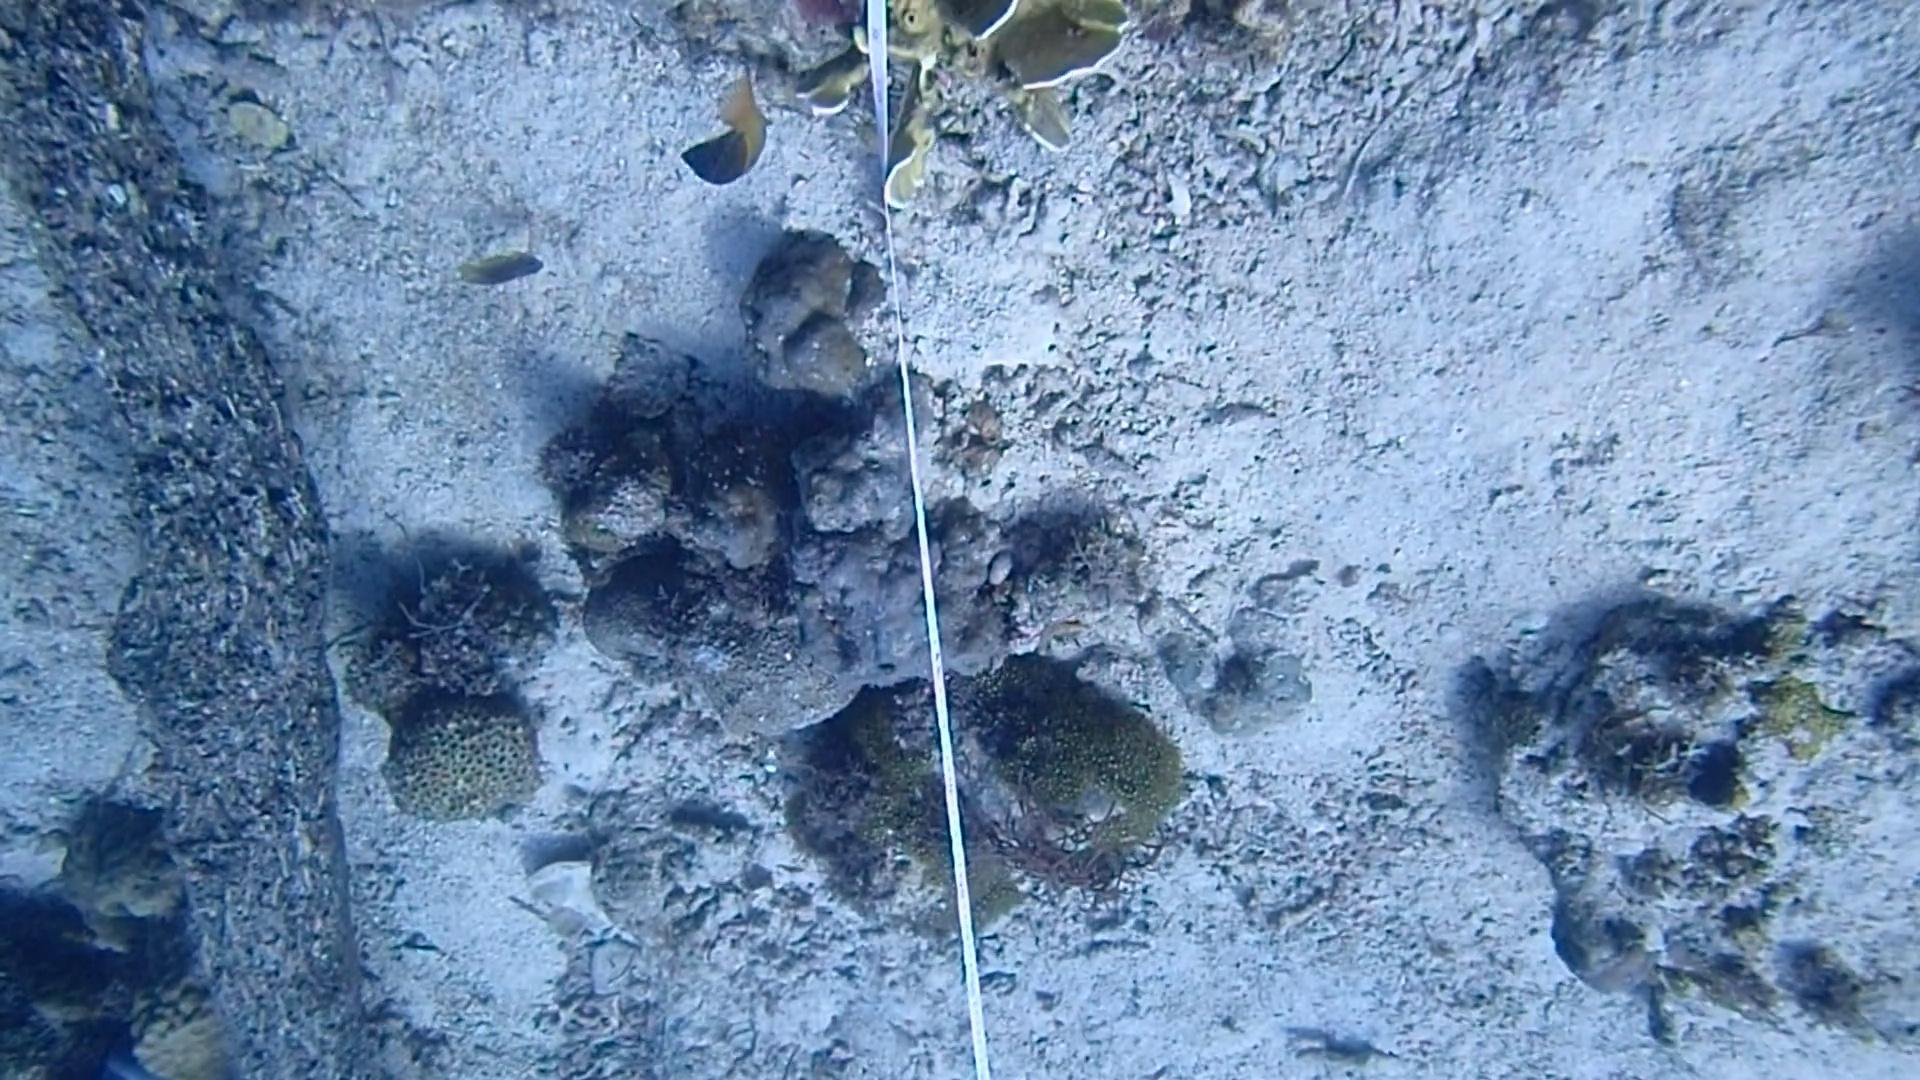Light Fish: (451, 222, 553, 298)
Yellow-Blue Fish: (676, 82, 795, 196)
